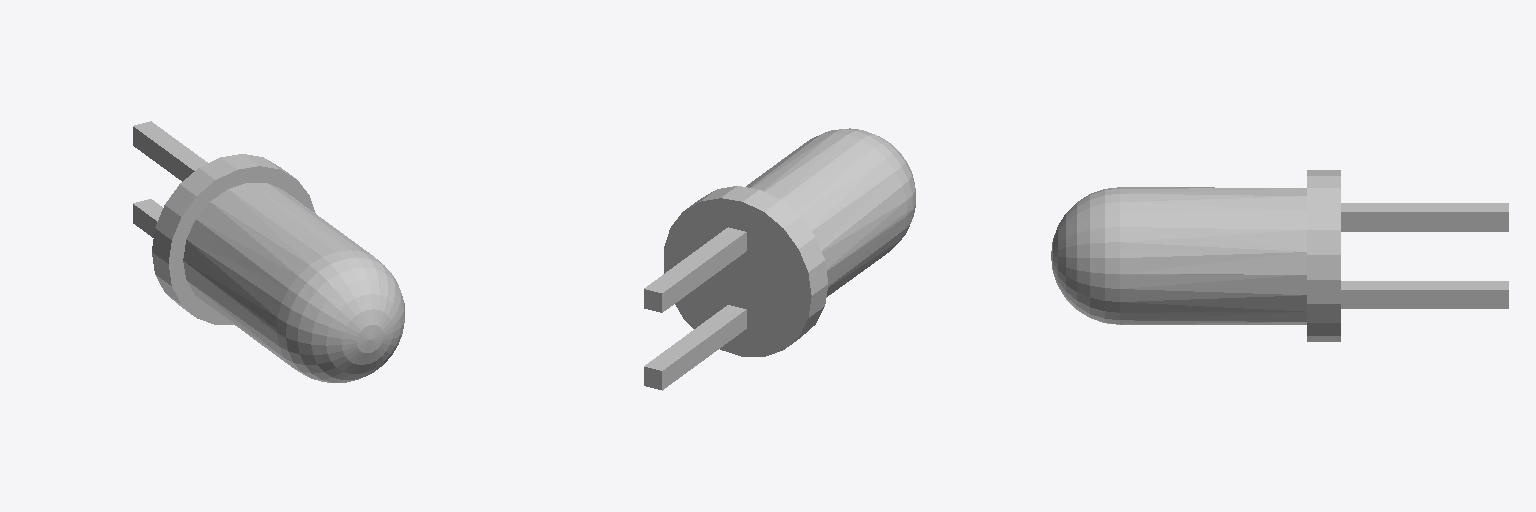
The model's file is LED.obj.
The picture shows the model from 3 angles: view 1: azimuth 30°, elevation 25°; view 2: azimuth 150°, elevation 25°; view 3: azimuth 270°, elevation 25°; orthographic projection.
Visible parts, largest first — view 1: Object.1; view 2: Object.1; view 3: Object.1.
Part boxes in pixels (x1,y1,x2,y2): Object.1: (133,121,404,382); Object.1: (644,128,915,390); Object.1: (1051,170,1508,341).
Size of the model in its own units: 5.07 by 5.08 by 13.6.